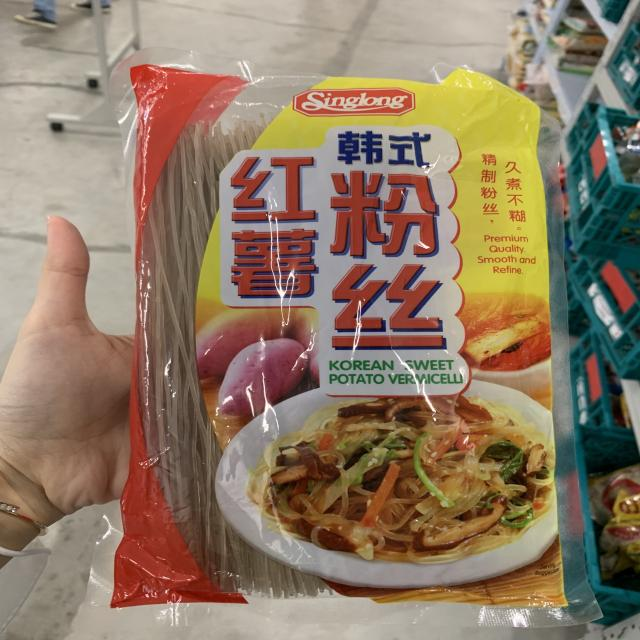object_name: (130, 73, 574, 614)
